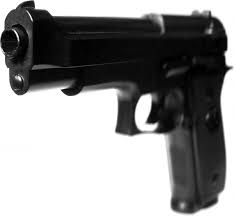gun: (2, 6, 231, 212)
